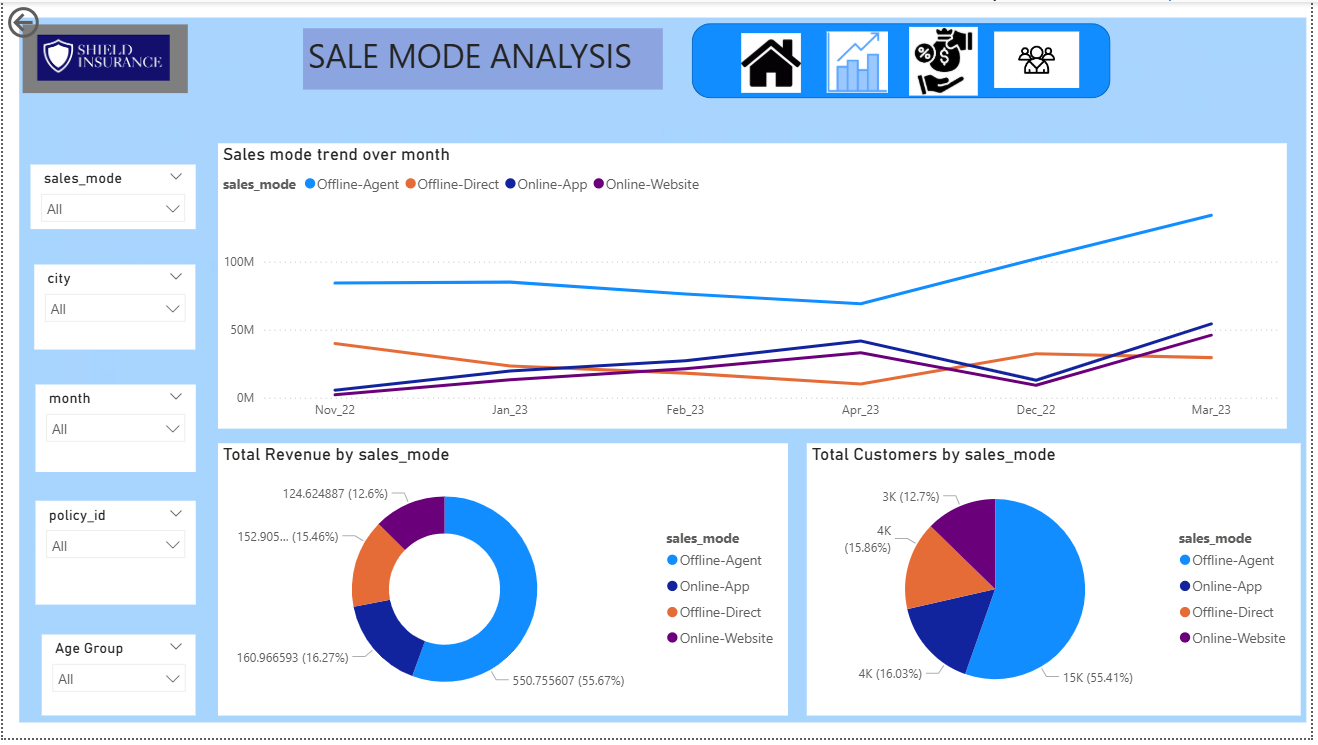

What the dashboard file says about the page in this screenshot:
{"tool":"powerbi","page":{"name":"Sales mode analysis","canvas":[1280,720],"ordinal":9},"visuals":[{"type":"image","box":[11,0,1269.3,720.2],"z":0},{"type":"image","box":[0,17.1,200,77.1],"z":1000},{"type":"actionButton","box":[0,0,100,40],"z":2000},{"type":"slicer","fields":{"Values":["fact_premiums.sales_mode"]},"box":[26.9,159,161.4,63.6],"z":3000},{"type":"slicer","fields":{"Values":["dim_date.mmm_yy"]},"box":[31.8,374.2,156.5,85.6],"z":4000},{"type":"slicer","fields":{"Values":["dim_policies.policy_id"]},"box":[31.8,487.9,156.5,101.5],"z":5000},{"type":"slicer","fields":{"Values":["dim_customer.city"]},"box":[30.6,256.8,157.7,83.2],"z":6000},{"type":"slicer","fields":{"Values":["dim_customer.Age Group"]},"box":[37.9,618.8,150.4,79.5],"z":7000},{"type":"donutChart","title":"Total Revenue by sales_mode","fields":{"Category":["fact_premiums.sales_mode"],"Y":["KPI Table.Total Revenue (M)"]},"box":[210.3,431.7,557.6,266.6],"z":8000},{"type":"lineChart","title":"Sales mode trend over month","fields":{"Category":["dim_date.mmm_yy"],"Series":["fact_premiums.sales_mode"],"Y":["fact_premiums.Total Revenue"]},"box":[210.3,138.2,1045.5,278.8],"z":9000},{"type":"pieChart","fields":{"Category":["fact_premiums.sales_mode"],"Y":["dim_customer.Total Customers"]},"box":[786.3,431.7,483,266.6],"z":10000},{"type":"textbox","box":[293.5,25.7,352.2,59.9],"z":11000},{"type":"shape","box":[673.8,20.8,409.6,73.4],"z":12000},{"type":"image","box":[716.6,25.7,69.7,68.5],"z":13000},{"type":"image","box":[801,23.2,69.7,70.9],"z":14000},{"type":"image","box":[964.8,4.9,92.9,102.7],"z":15000},{"type":"image","box":[879.2,19.6,81.9,77],"z":16000}]}

Visuals, with their boxes in screenshot pixels (x1, y1, x2, y2), scaled from the page's 1280x720 canvas onto the 1318x745 screenshot:
image: (x1=11, y1=0, x2=1317, y2=744)
image: (x1=0, y1=18, x2=206, y2=97)
actionButton: (x1=0, y1=0, x2=103, y2=41)
slicer - fact_premiums.sales_mode: (x1=28, y1=165, x2=194, y2=230)
slicer - dim_date.mmm_yy: (x1=33, y1=387, x2=194, y2=476)
slicer - dim_policies.policy_id: (x1=33, y1=505, x2=194, y2=610)
slicer - dim_customer.city: (x1=32, y1=266, x2=194, y2=352)
slicer - dim_customer.Age Group: (x1=39, y1=640, x2=194, y2=723)
"Total Revenue by sales_mode" donutChart: (x1=217, y1=447, x2=791, y2=723)
"Sales mode trend over month" lineChart: (x1=217, y1=143, x2=1293, y2=431)
pieChart - fact_premiums.sales_mode x dim_customer.Total Customers: (x1=810, y1=447, x2=1307, y2=723)
textbox: (x1=302, y1=27, x2=665, y2=89)
shape: (x1=694, y1=22, x2=1116, y2=97)
image: (x1=738, y1=27, x2=810, y2=97)
image: (x1=825, y1=24, x2=897, y2=97)
image: (x1=993, y1=5, x2=1089, y2=111)
image: (x1=905, y1=20, x2=990, y2=100)
